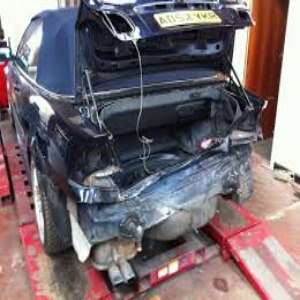bumper: (80, 152, 267, 246)
